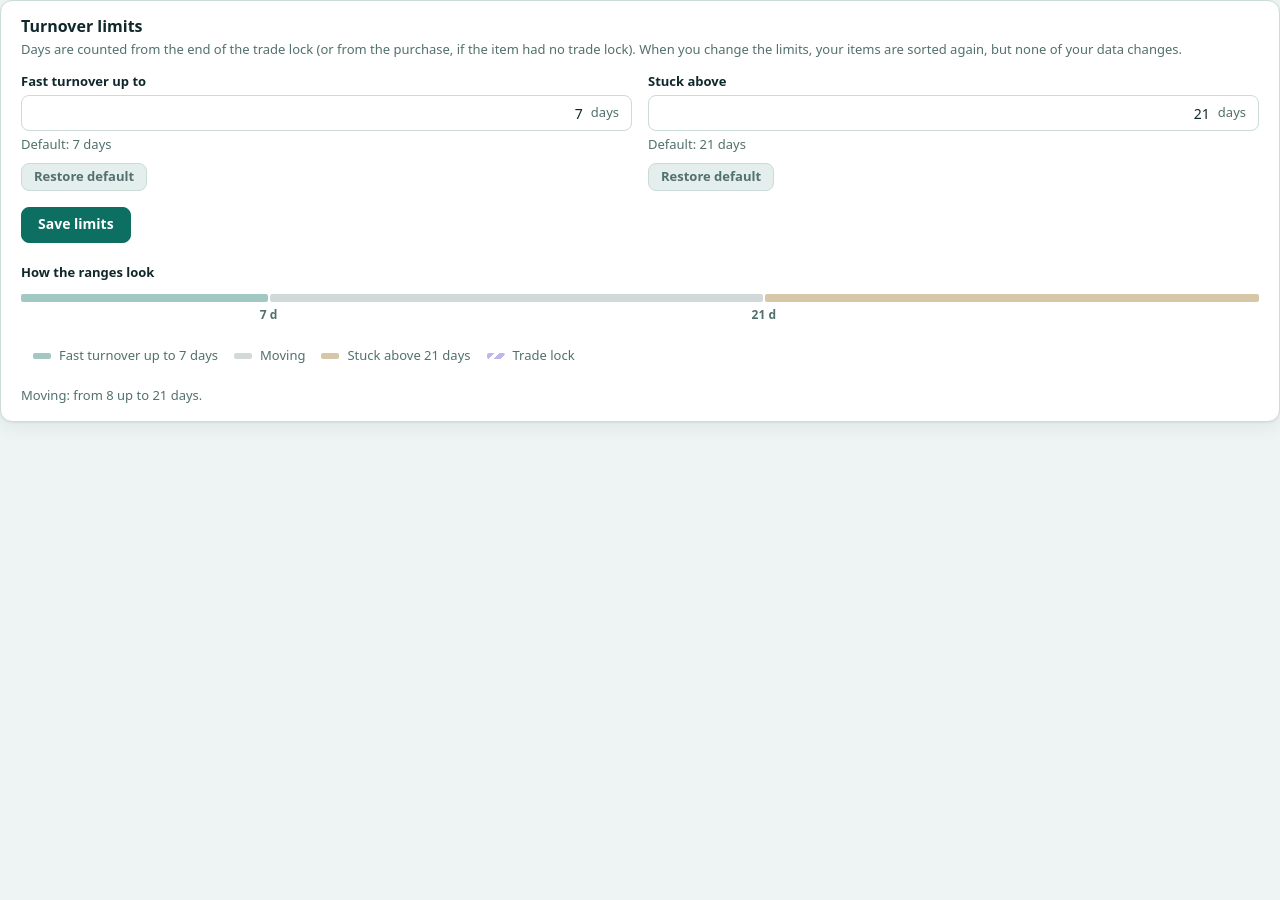
Scenario: AgingSettings › salvar envia só o que mudou e mostra o aviso de sucesso
Replace the text in the field labelled "Stuck above" with "30": x=935, y=113 [661,96,1210,130]
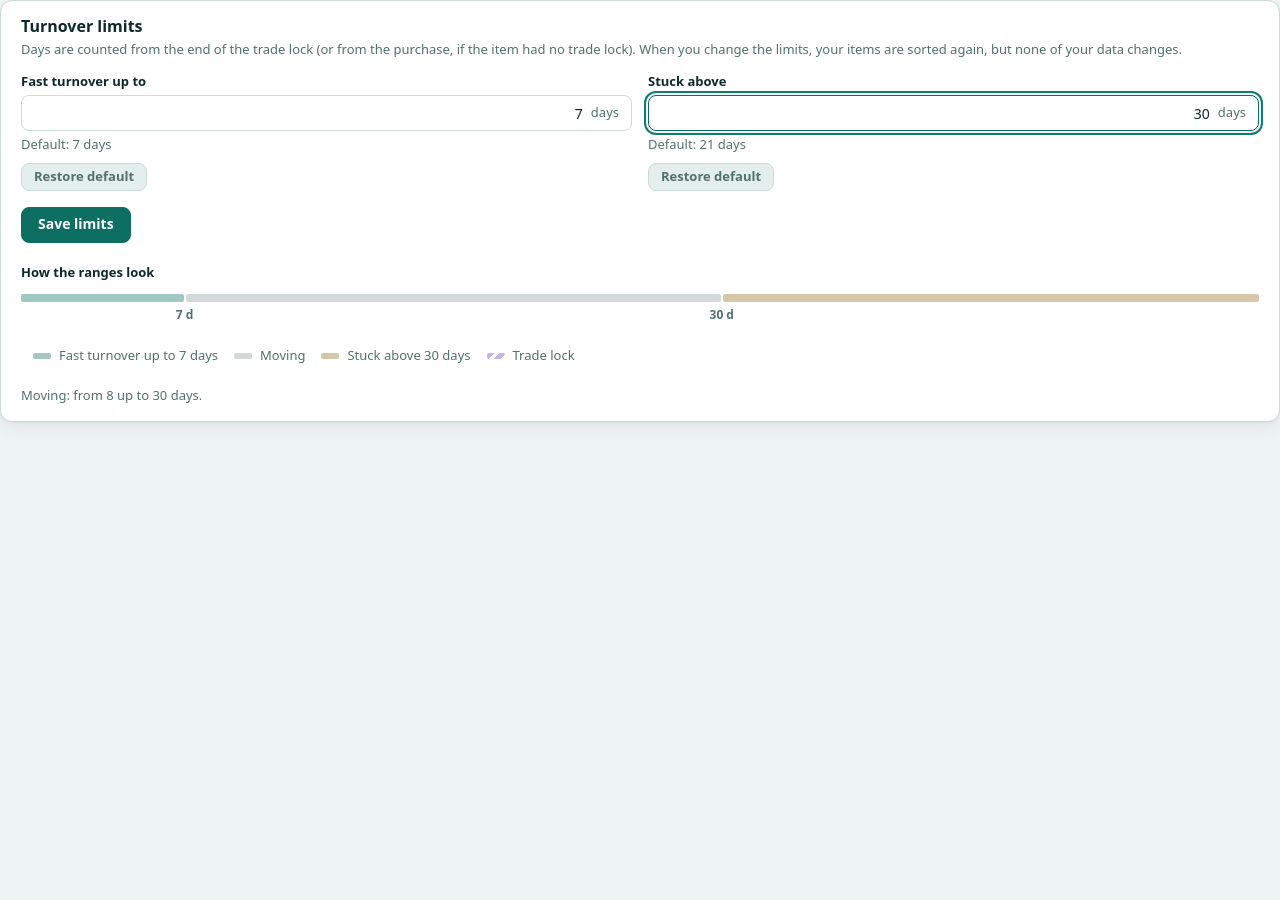
Click the button "Save limits": x=76, y=225 [21,207,131,243]
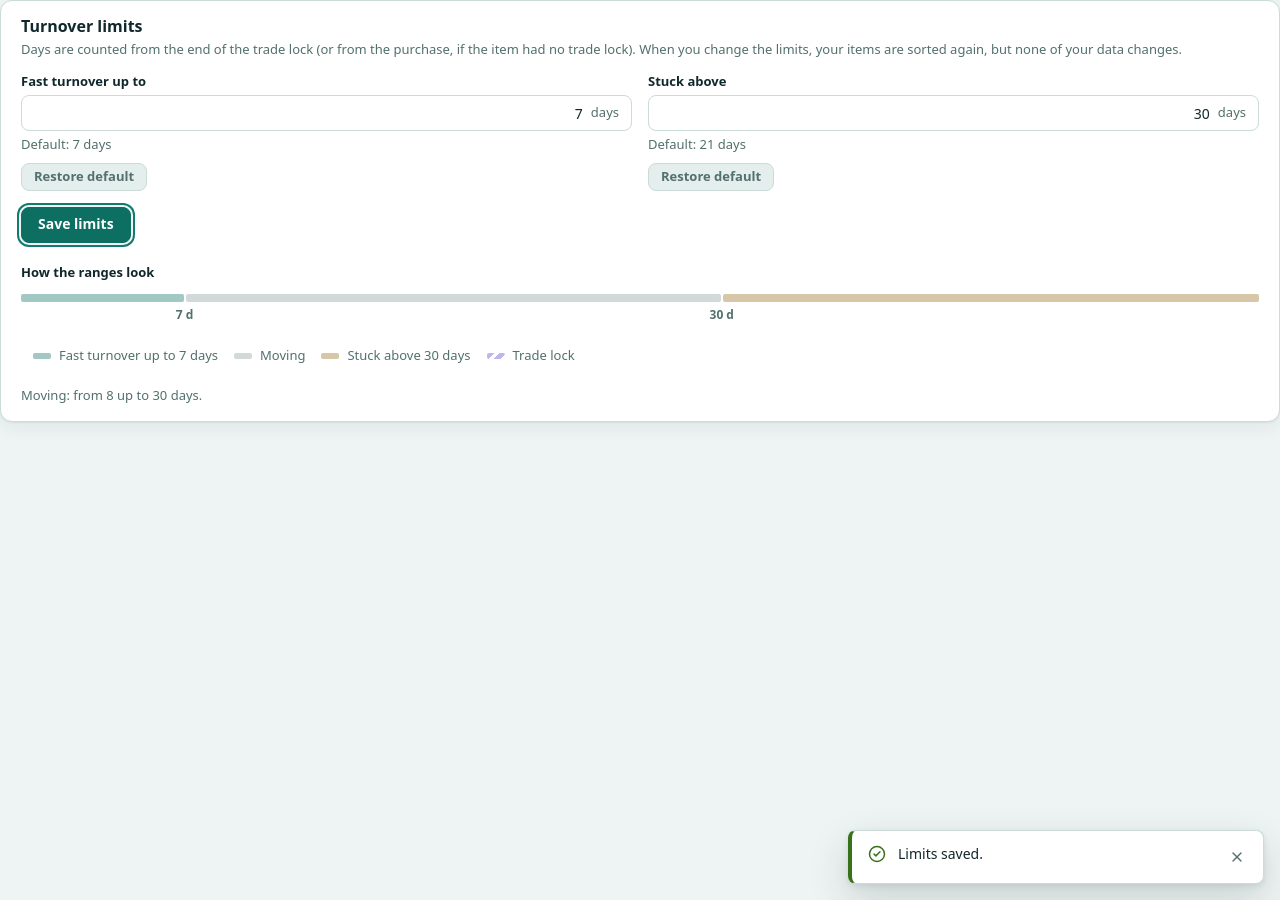
Expected: the text "Limits saved." is shown, [898,844,983,863]
